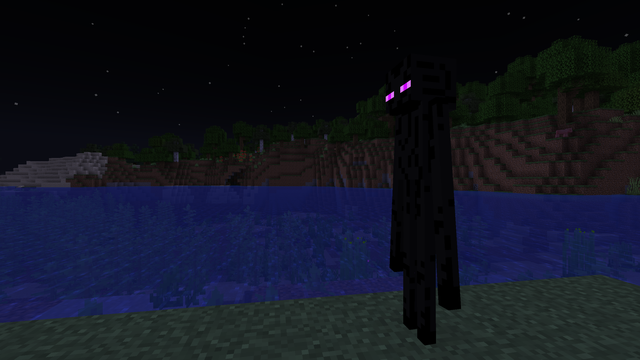cochons: (555, 129, 568, 137)
endermens: (380, 41, 463, 354)
